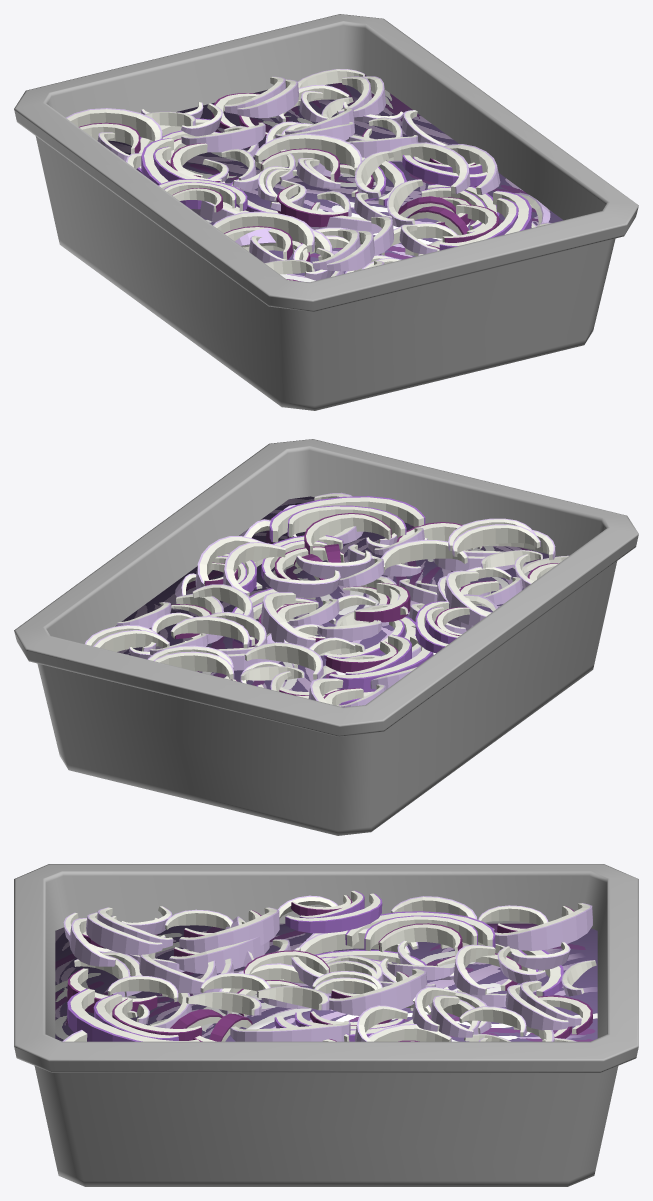
The model's file is Onions.fbx.
The picture shows the model from 3 angles, top to bottom: view 1: azimuth 30°, elevation 25°; view 2: azimuth 150°, elevation 25°; view 3: azimuth 270°, elevation 25°; orthographic projection. The views are drawn at different scales.
Visible parts, largest first — view 1: OnionContainer, Onions, Onion; view 2: OnionContainer, Onions, Onion; view 3: OnionContainer, Onions, Onion.
Part boxes in pixels (x1,y1,x2,y2): OnionContainer: (14,14,638,410); Onions: (66,69,551,281); Onion: (108,75,563,282); OnionContainer: (14,439,638,835); Onions: (85,492,568,707); Onion: (115,496,556,691); OnionContainer: (14,864,638,1186); Onions: (62,890,596,1041); Onion: (55,923,597,1041).
Size of the model in its own units: 439 by 154 by 591.
Materials: 6 (1 with a texture image).
